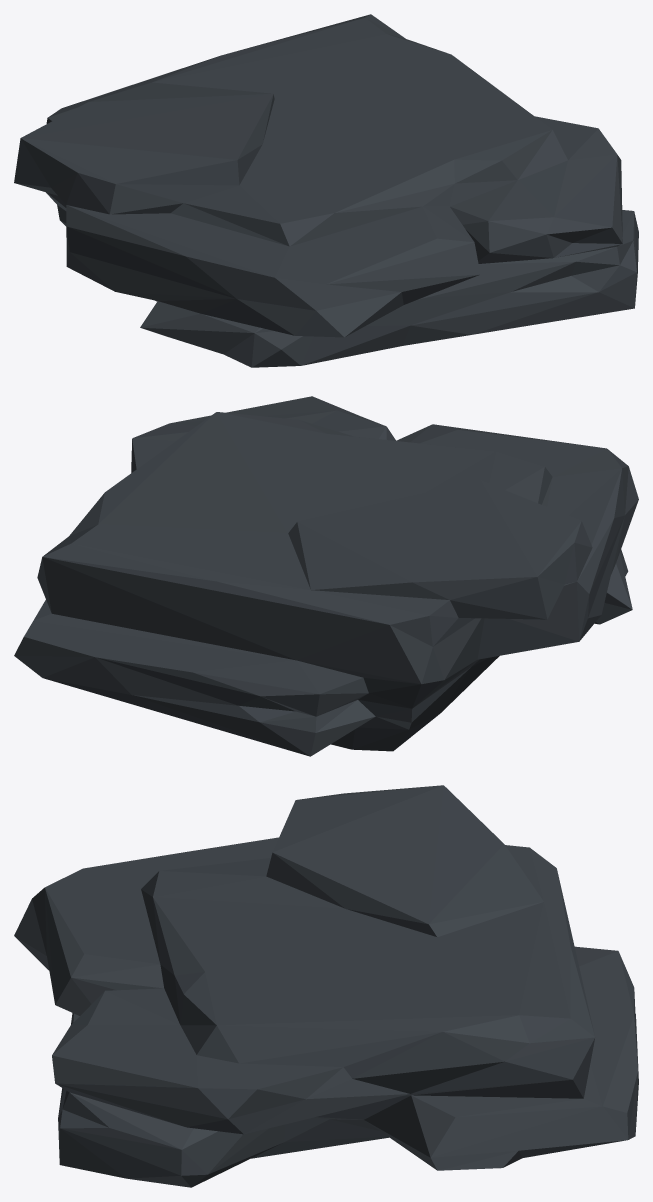
Rendered from MDungeon_CavernRock_Flat_03.FBX.
The picture shows the model from 3 angles, top to bottom: view 1: azimuth 30°, elevation 25°; view 2: azimuth 150°, elevation 25°; view 3: azimuth 270°, elevation 25°; orthographic projection. The views are drawn at different scales.
Visible parts, largest first — view 1: MDungeon_CavernRock_Flat_03_LOD0; view 2: MDungeon_CavernRock_Flat_03_LOD0; view 3: MDungeon_CavernRock_Flat_03_LOD0.
Boxes of the visible parts, box(x1,y1,x2,y2) form: MDungeon_CavernRock_Flat_03_LOD0: box(14, 14, 638, 367); MDungeon_CavernRock_Flat_03_LOD0: box(14, 396, 638, 756); MDungeon_CavernRock_Flat_03_LOD0: box(14, 785, 638, 1187).
Size of what is drawn, in the model's own units: 8.05 by 2.81 by 8.05.
